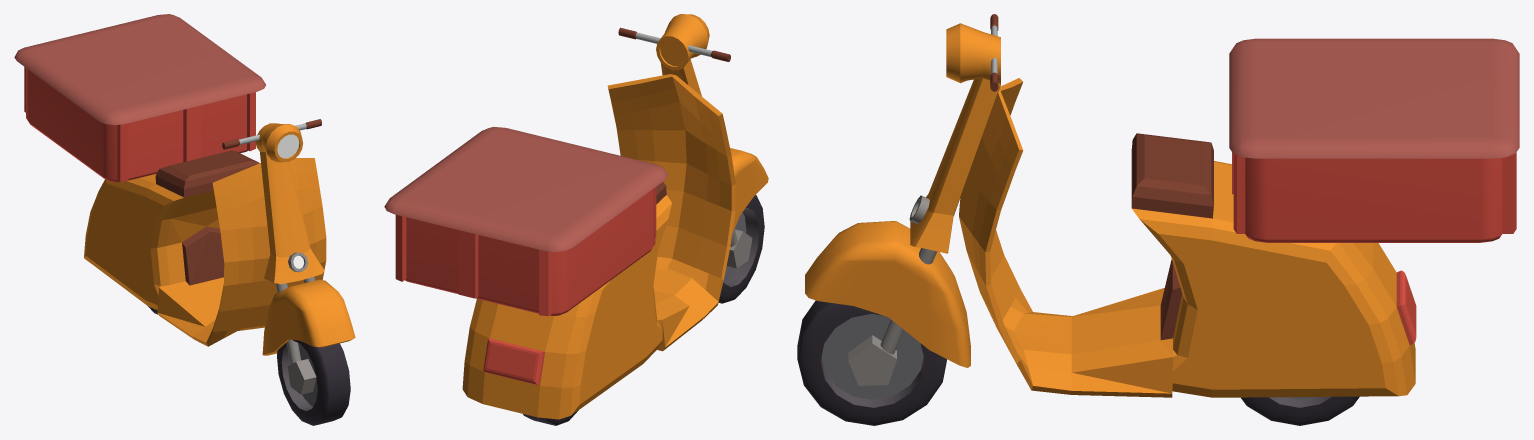
The model's file is vespa.fbx.
The picture shows the model from 3 angles, left to right: view 1: azimuth 30°, elevation 25°; view 2: azimuth 150°, elevation 25°; view 3: azimuth 270°, elevation 25°; orthographic projection. The views are drawn at different scales.
Visible parts, largest first — view 1: vespa_body, box_upper, box_body, motobike_front, wheel; view 2: vespa_body, box_upper, box_body, motobike_front, wheel; view 3: vespa_body, box_upper, box_body, motobike_front, wheel, vespa_back_wheel.
Boxes of the visible parts, x1,y1,x2,y2 form: vespa_body: (84,150,326,346); box_upper: (14,14,265,125); box_body: (24,67,255,182); motobike_front: (222,119,355,355); wheel: (277,339,350,425); vespa_body: (462,74,735,419); box_upper: (384,127,667,251); box_body: (395,187,656,316); motobike_front: (618,14,768,233); wheel: (718,195,764,303); vespa_body: (959,78,1416,397); box_upper: (1229,38,1519,158); box_body: (1232,152,1516,242); motobike_front: (805,14,1000,367); wheel: (797,300,946,425); vespa_back_wheel: (1241,396,1359,425).
Size of the model in its own units: 459 by 726 by 1207.
